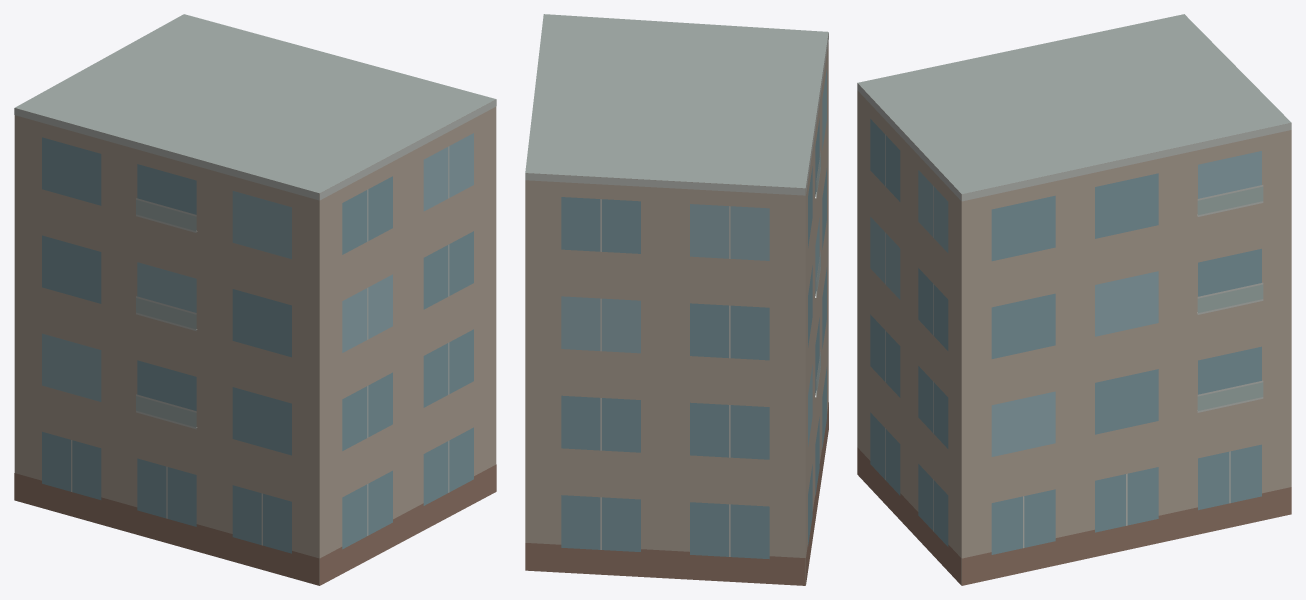
The model's file is survey-upis-33006250.glb.
3 views of the same model, side by side, from view 1: azimuth 30°, elevation 25°; view 2: azimuth 150°, elevation 25°; view 3: azimuth 270°, elevation 25° (orthographic).
Visible parts, largest first — view 1: survey-upis-33006250.tmp; view 2: survey-upis-33006250.tmp; view 3: survey-upis-33006250.tmp.
Boxes of the visible parts, left/top/right/bottom form: survey-upis-33006250.tmp: left=14, top=14, right=496, bottom=585; survey-upis-33006250.tmp: left=525, top=14, right=828, bottom=585; survey-upis-33006250.tmp: left=857, top=14, right=1291, bottom=585.
Bounding box in the file's own units: 13.09 × 13.25 × 13.33.
